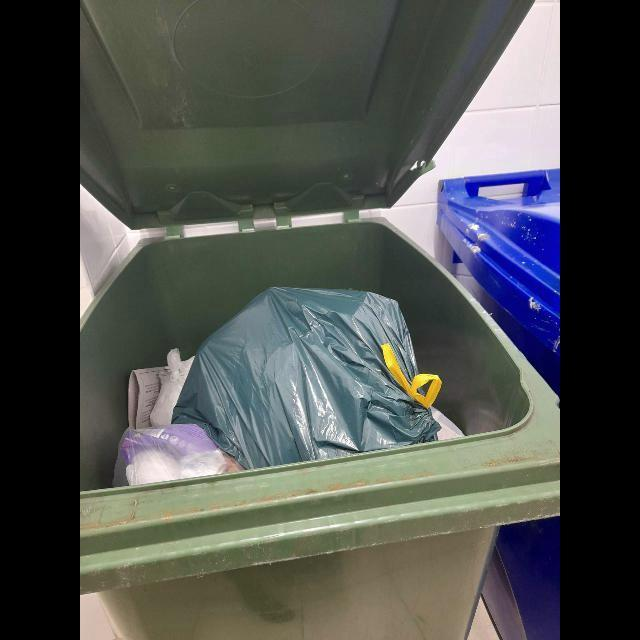paper: (128, 367, 165, 430)
plastic_bag: (171, 287, 443, 471), (112, 424, 246, 488), (150, 348, 195, 427)
